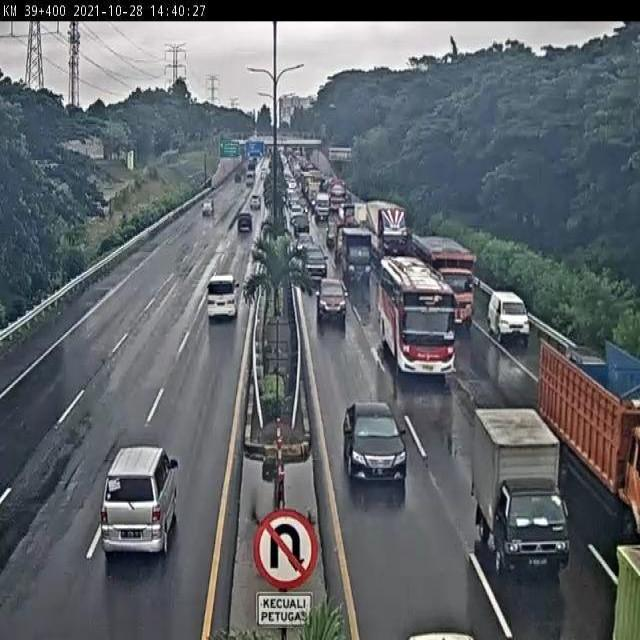car: (98, 445, 181, 563), (343, 395, 406, 489), (488, 287, 531, 345), (205, 279, 240, 323), (314, 273, 345, 319), (301, 244, 326, 275), (232, 221, 251, 243)
truck: (541, 337, 640, 547), (469, 401, 570, 583), (374, 253, 457, 376), (416, 236, 478, 328), (339, 223, 374, 283)
